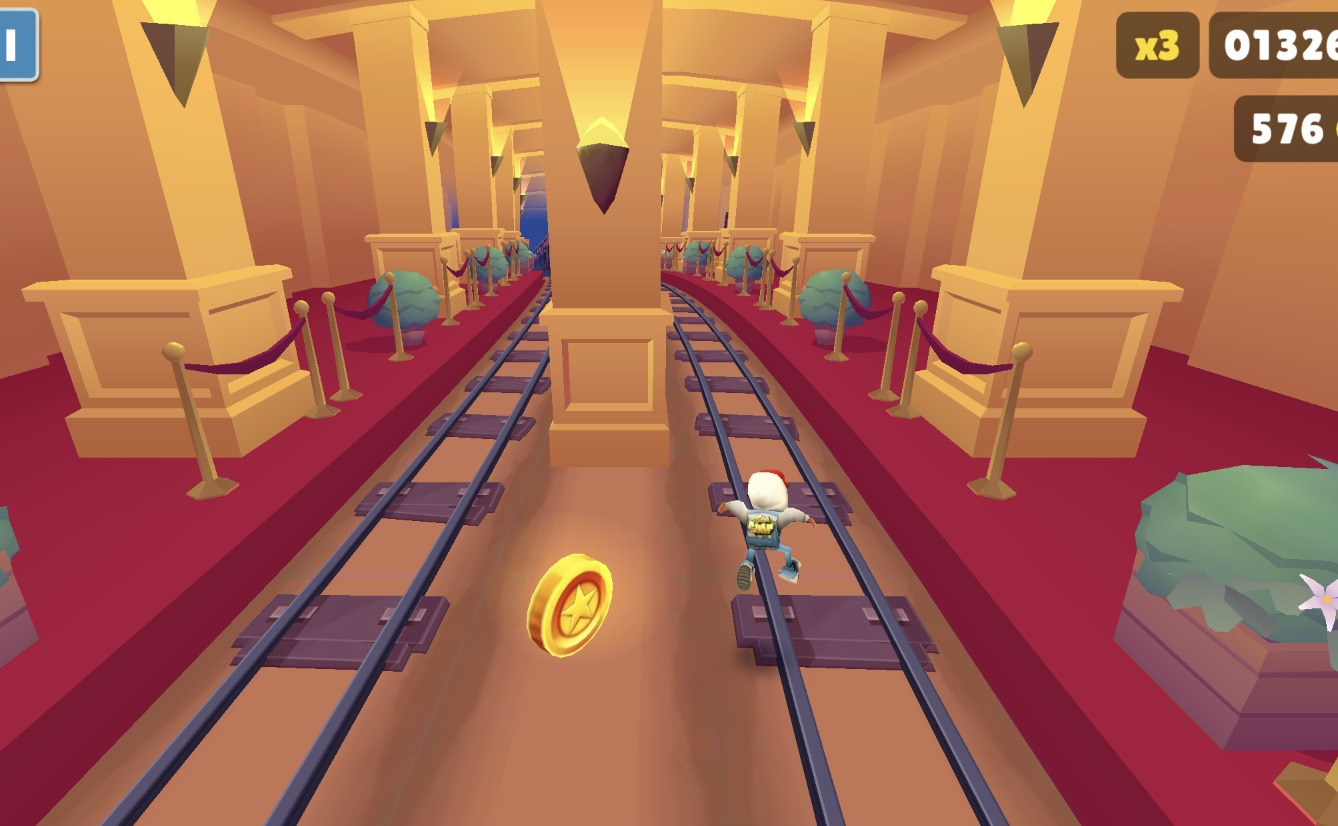pillar: (539, 0, 676, 497)
train: (512, 207, 547, 297)
